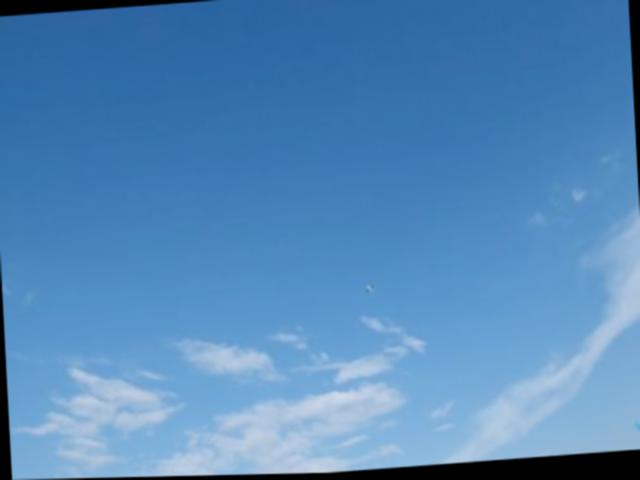uav: (356, 277, 382, 301)
